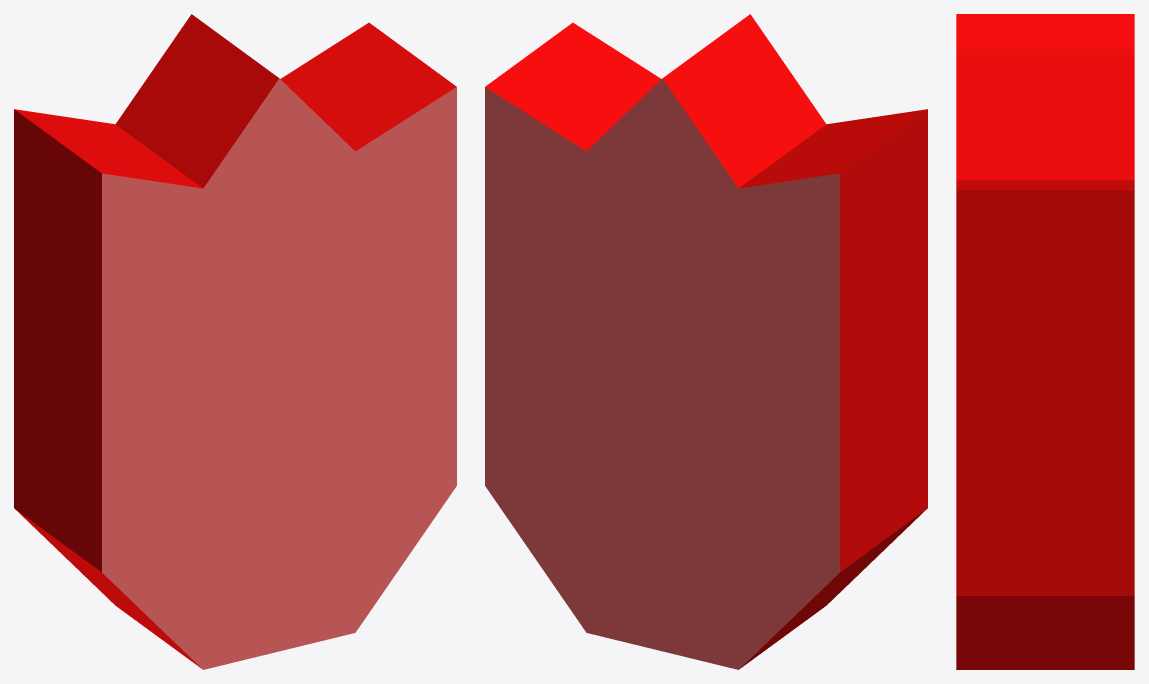
Rendered from Kit_Armor.fbx.
3 renders of one model, left to right at view 1: azimuth 30°, elevation 25°; view 2: azimuth 150°, elevation 25°; view 3: azimuth 270°, elevation 25°, orthographic.
Parts seen in each view (by area): view 1: Cube.002; view 2: Cube.002; view 3: Cube.002.
Boxes of the visible parts, x1,y1,x2,y2 form: Cube.002: (14,14,456,669); Cube.002: (485,14,927,669); Cube.002: (956,14,1134,669).
Size of the model in its own units: 467 by 720 by 200.
